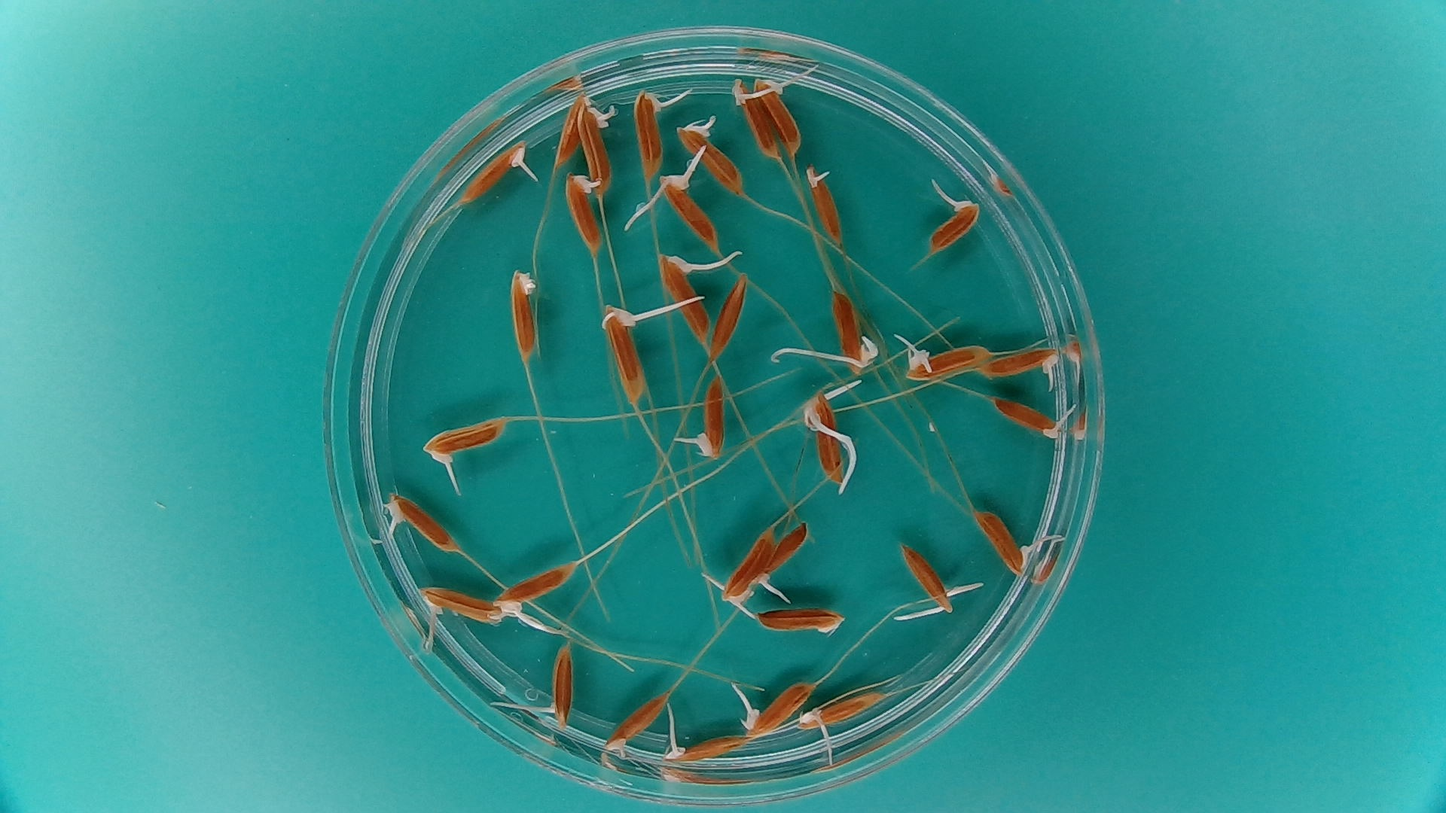no: (708, 273, 751, 363), (505, 264, 543, 362), (751, 604, 846, 637), (554, 92, 587, 170)
yes: (741, 509, 828, 594), (656, 172, 729, 252), (657, 252, 714, 349), (380, 489, 461, 556), (496, 561, 582, 624), (676, 126, 749, 197), (892, 332, 995, 382), (597, 305, 647, 408), (459, 137, 532, 207), (801, 388, 850, 489), (828, 286, 881, 376), (718, 523, 779, 601), (602, 691, 664, 765), (896, 540, 957, 615), (419, 413, 508, 464), (739, 678, 813, 738), (796, 687, 889, 733), (972, 507, 1034, 576), (632, 87, 674, 186), (754, 72, 803, 156), (732, 78, 782, 160), (561, 166, 607, 255), (658, 726, 746, 772), (801, 161, 846, 250), (416, 583, 511, 624), (979, 343, 1064, 385), (922, 195, 978, 256), (695, 369, 731, 461), (579, 102, 615, 193), (987, 396, 1063, 437), (541, 638, 575, 729)
